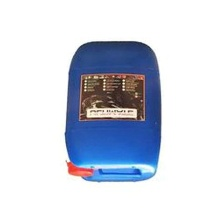cleaning_solution: (61, 36, 163, 192)
